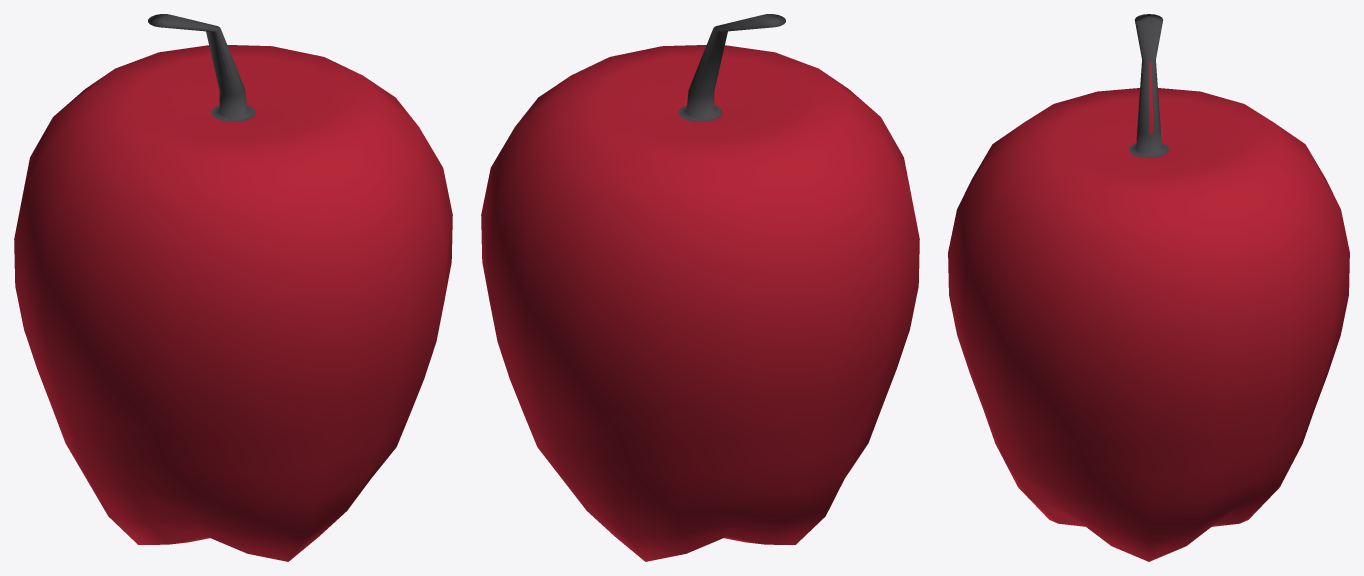
Rendered from Apple.fbx.
3 views of the same model, side by side, from view 1: azimuth 30°, elevation 25°; view 2: azimuth 150°, elevation 25°; view 3: azimuth 270°, elevation 25° (orthographic). The views are drawn at different scales.
Visible parts, largest first — view 1: Sphere; view 2: Sphere; view 3: Sphere.
Boxes of the visible parts, x1,y1,x2,y2 form: Sphere: (14, 14, 452, 561); Sphere: (481, 14, 919, 561); Sphere: (948, 14, 1349, 561).
Size of the model in its own units: 165 by 214 by 165.
